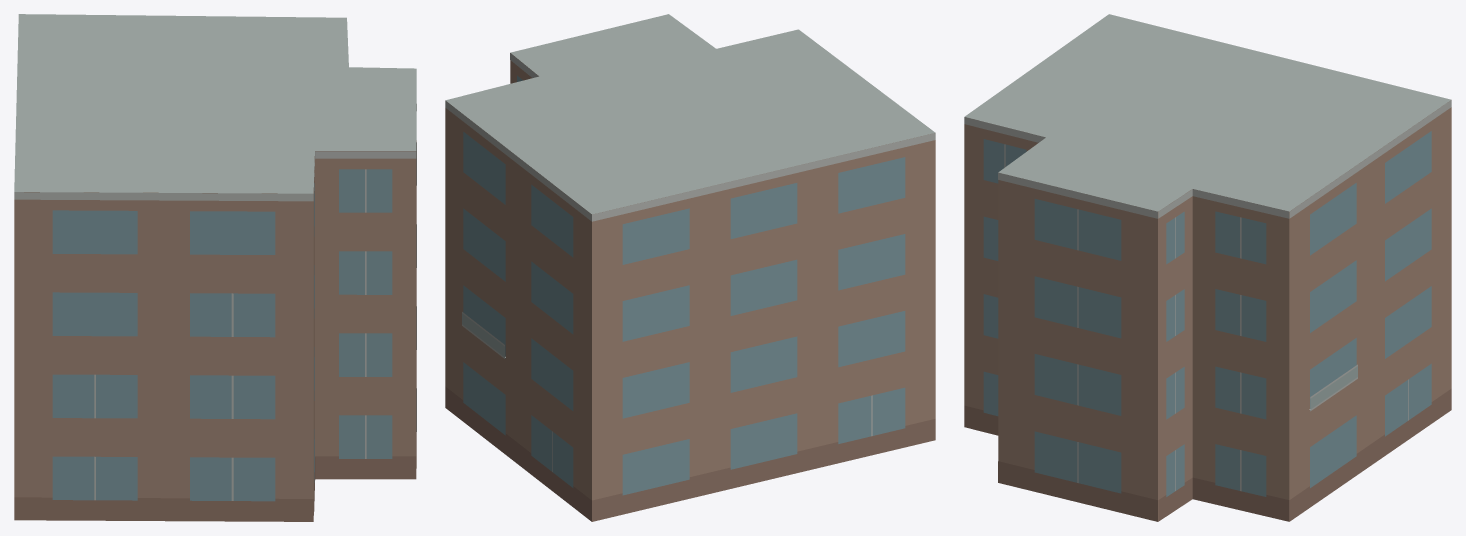
The model's file is survey-upis-32676005.glb.
3 renders of one model, left to right at view 1: azimuth 30°, elevation 25°; view 2: azimuth 150°, elevation 25°; view 3: azimuth 270°, elevation 25°, orthographic. The views are drawn at different scales.
Visible parts, largest first — view 1: survey-upis-32676005.tmp; view 2: survey-upis-32676005.tmp; view 3: survey-upis-32676005.tmp.
Part boxes in pixels (x1,y1,x2,y2): survey-upis-32676005.tmp: [14, 14, 416, 521]; survey-upis-32676005.tmp: [445, 14, 935, 521]; survey-upis-32676005.tmp: [964, 14, 1451, 521].
Bounding box in the file's own units: 14.22 × 10.4 × 14.81.
